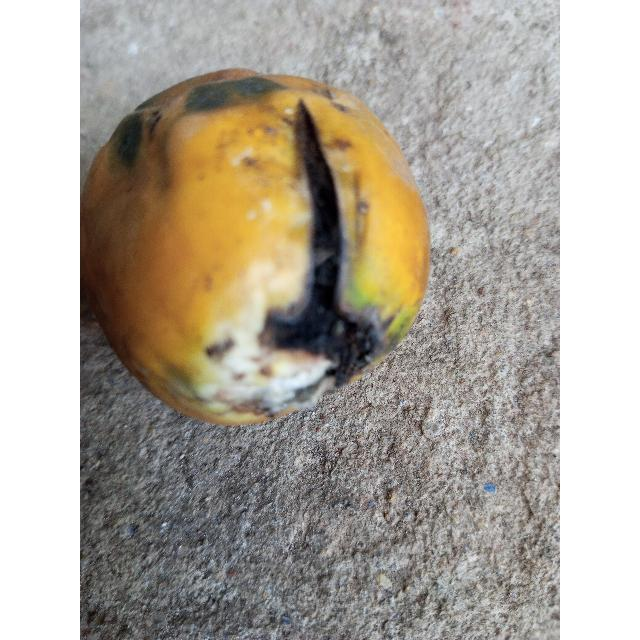damaged: (80, 68, 430, 430)
